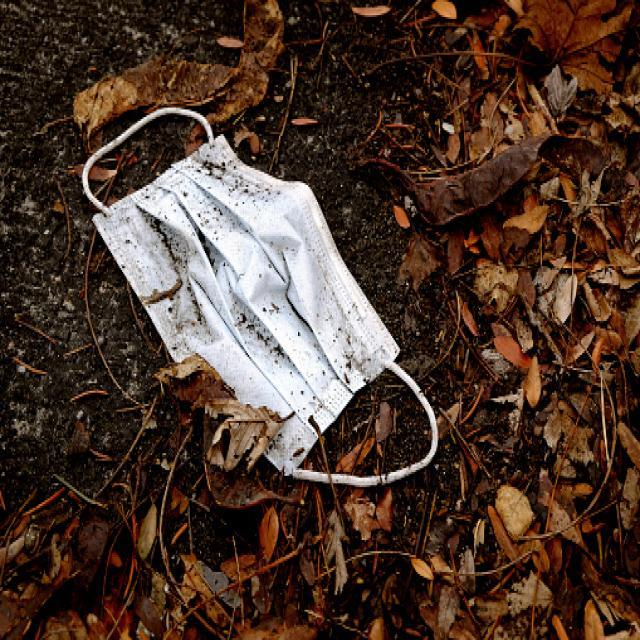face mask: (80, 103, 442, 486)
